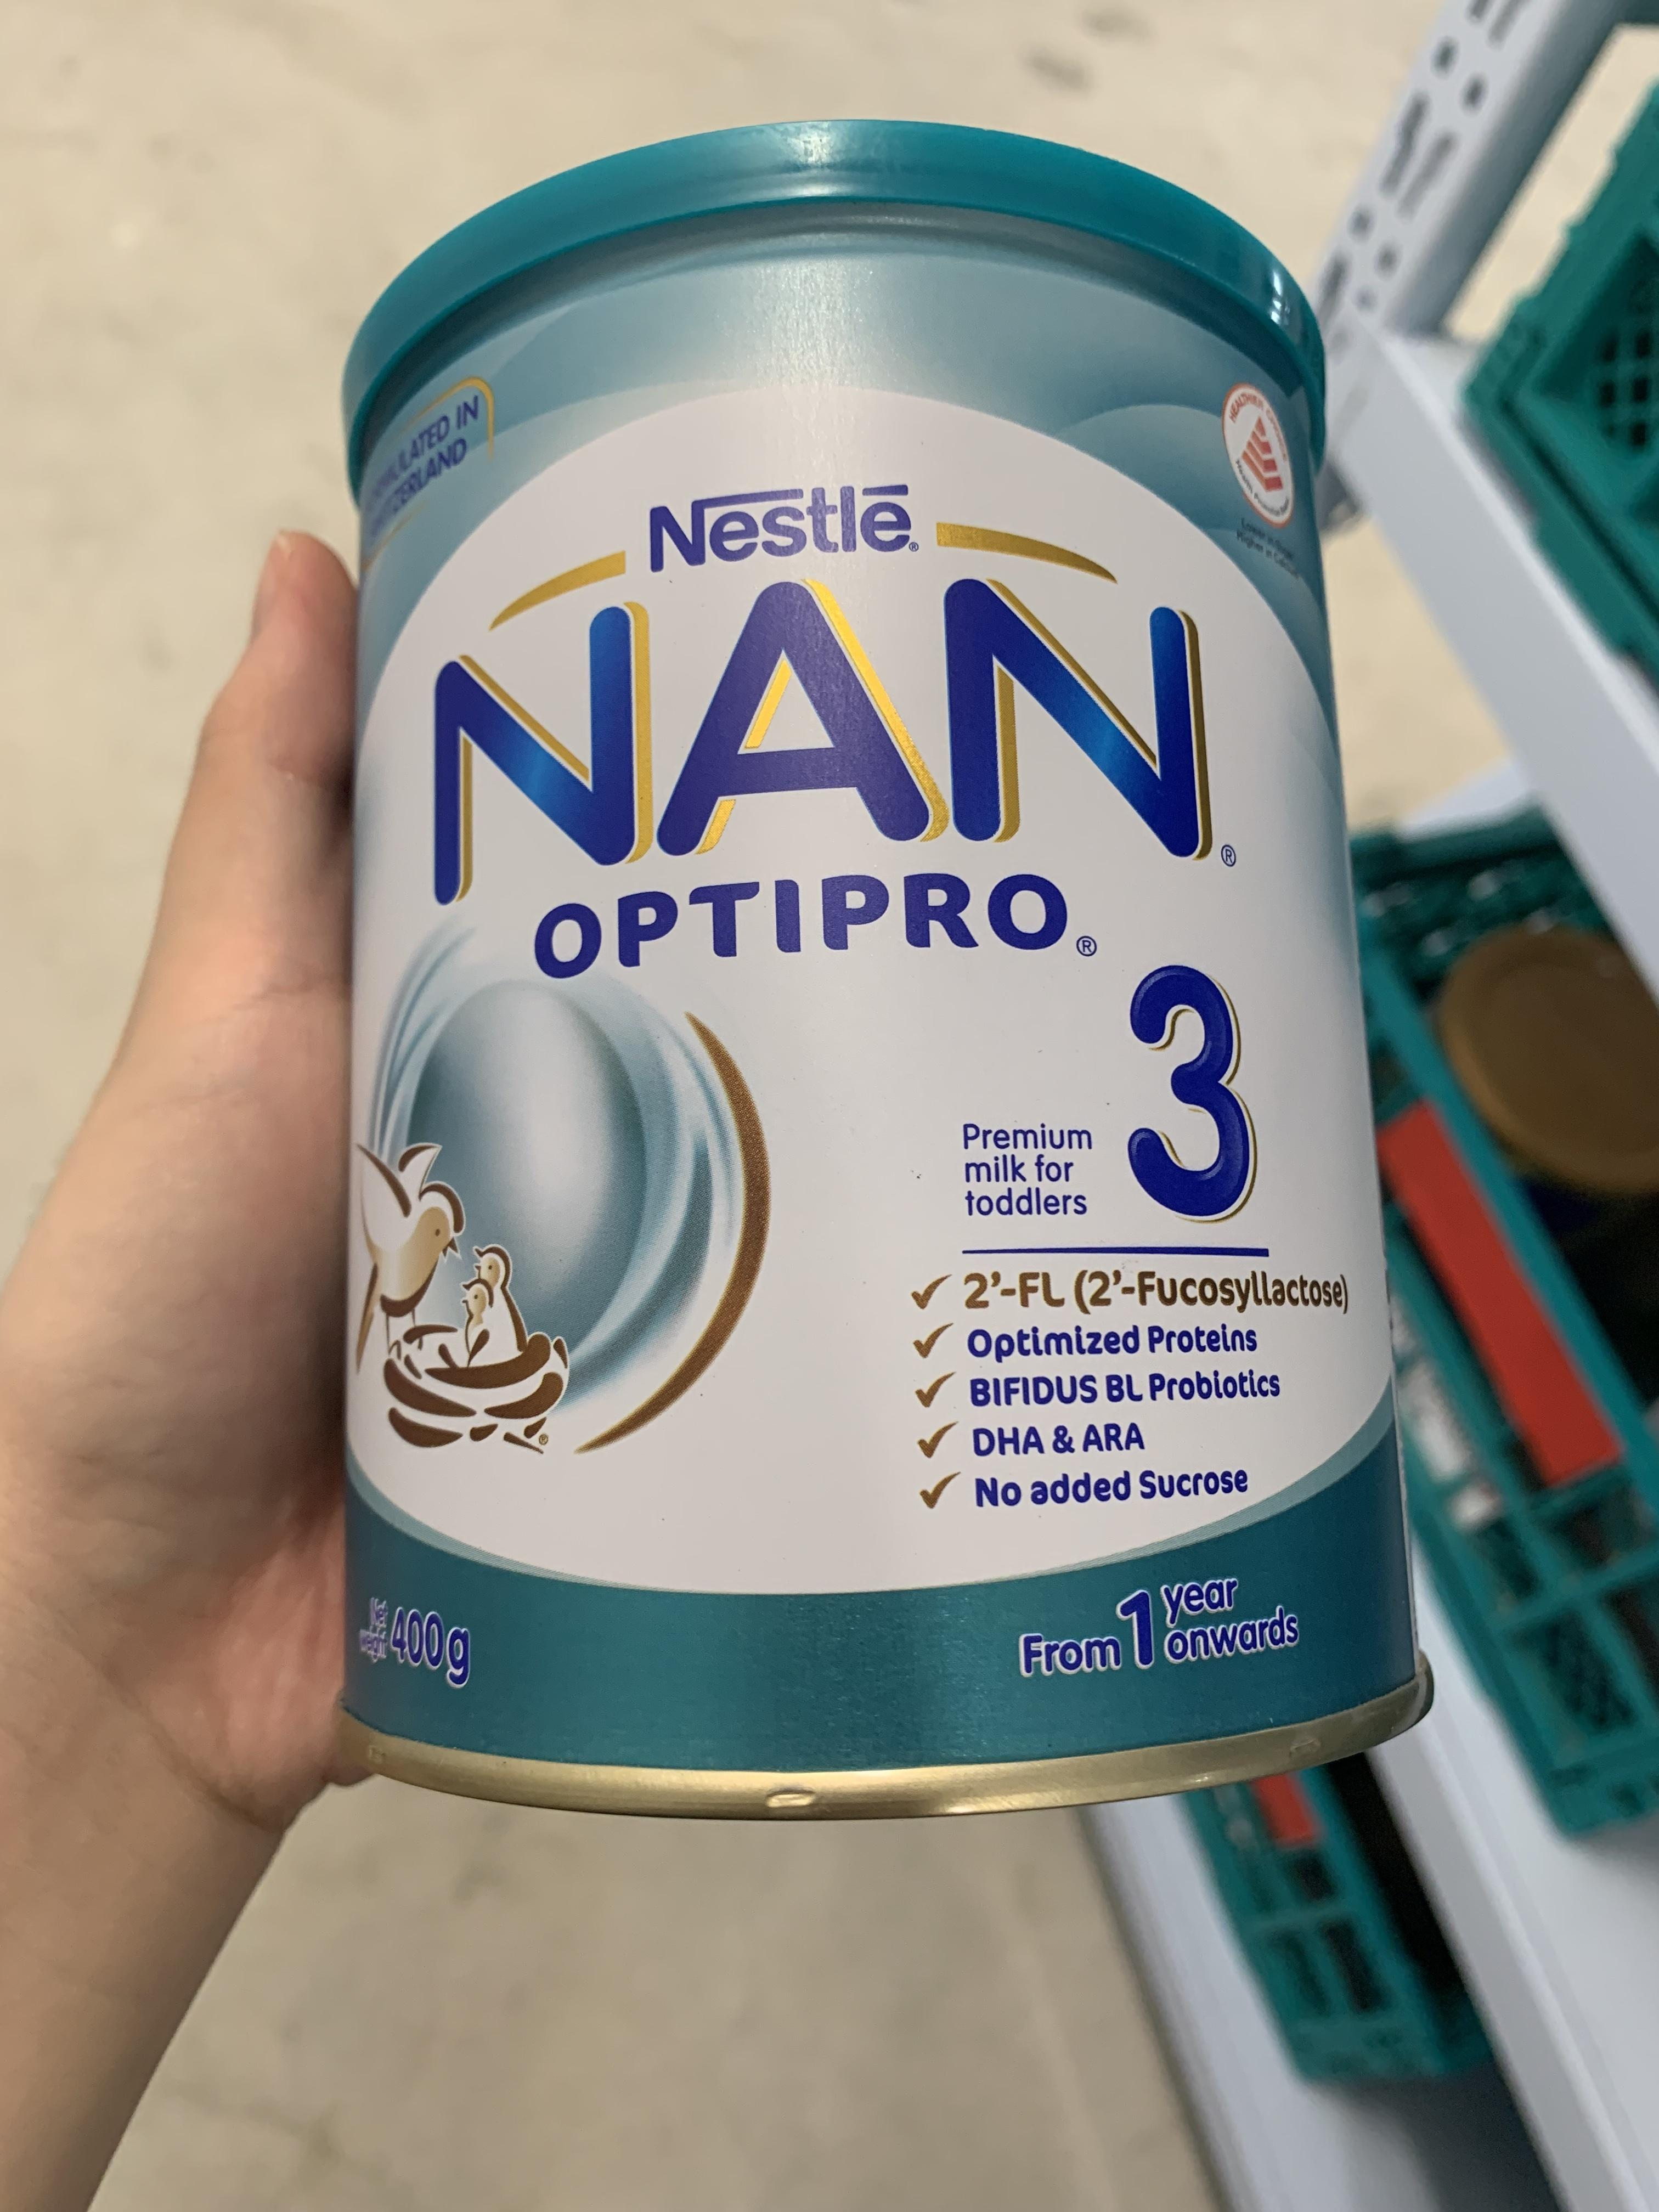object_name: (383, 287, 1385, 1737)
